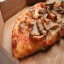pizza: (11, 3, 64, 59)
